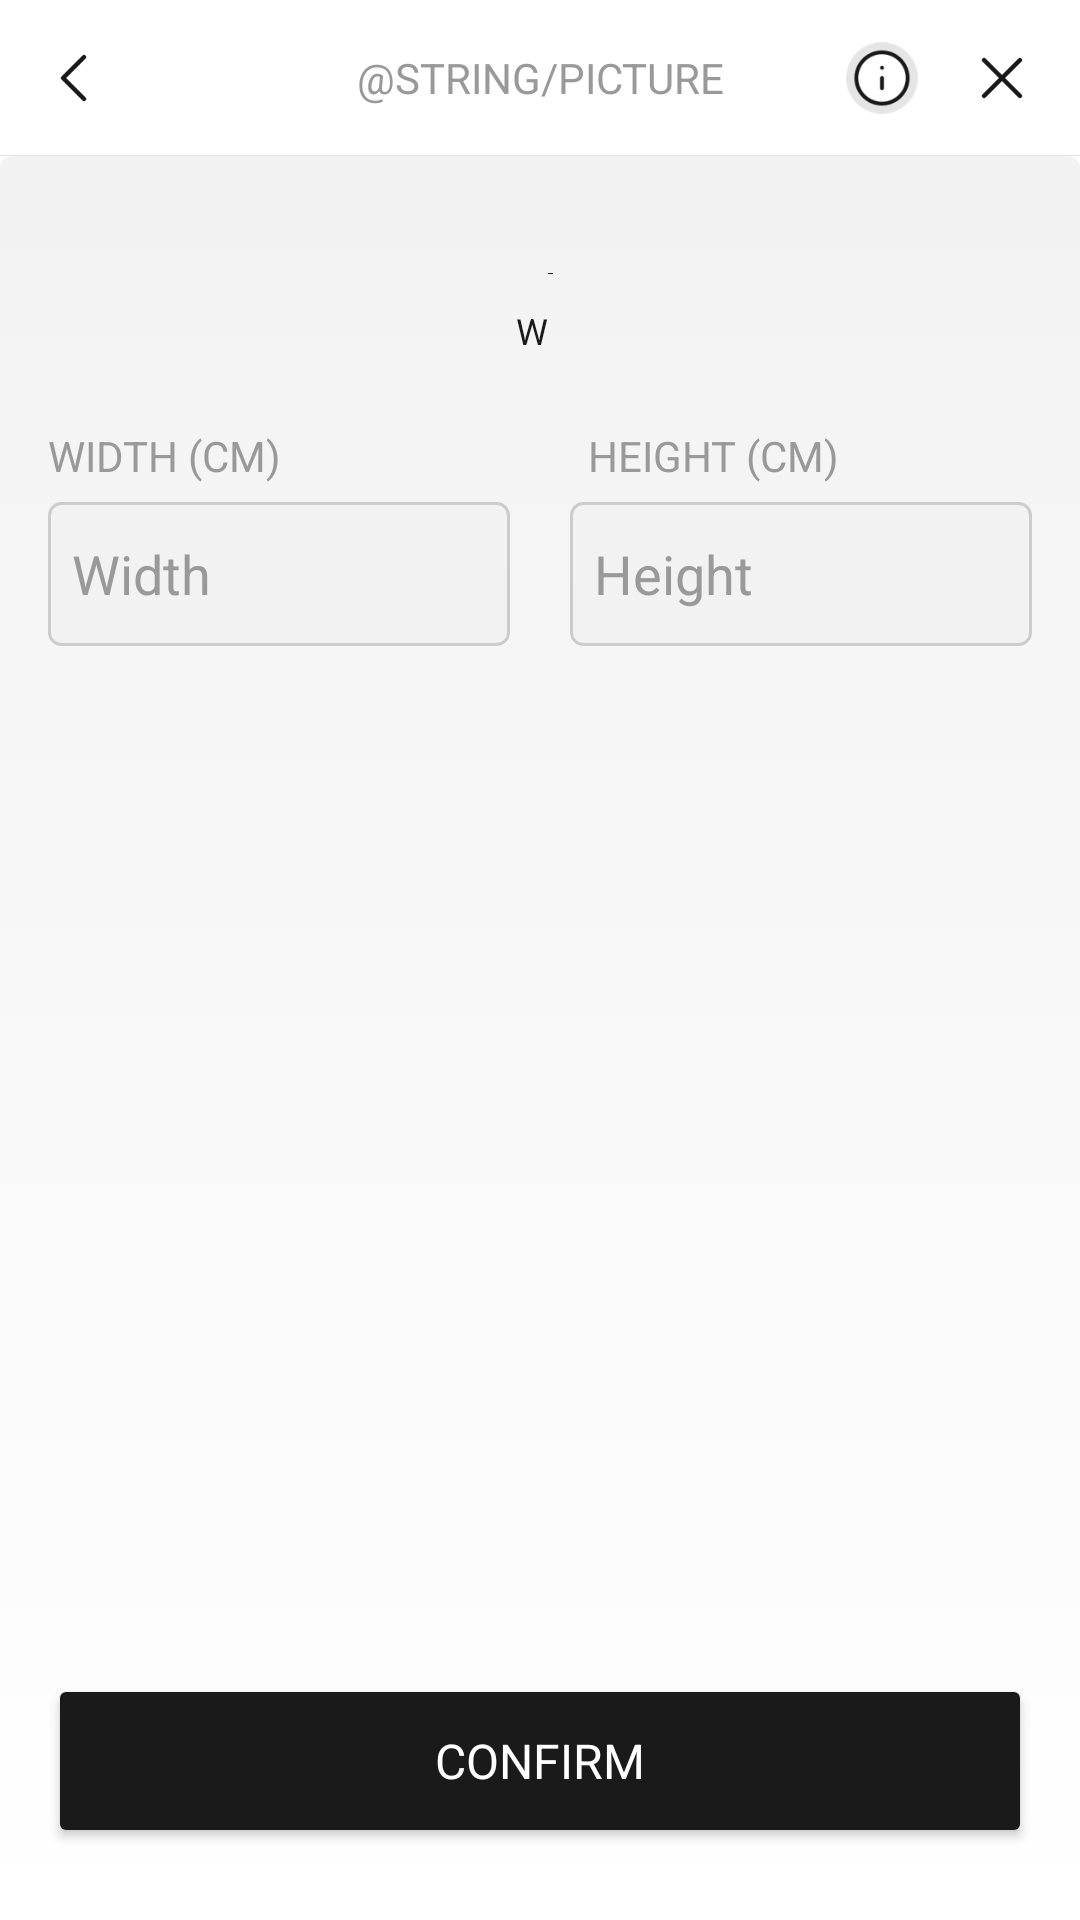

Icons on this 1080px x 1920px Android screen, each with the point to tap as [x,y]:
back: [73,78]
close: [1002,78]
info: [882,78]
